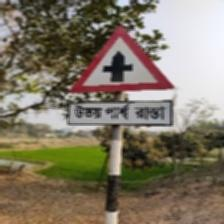Crossroad: (66, 24, 178, 128)
